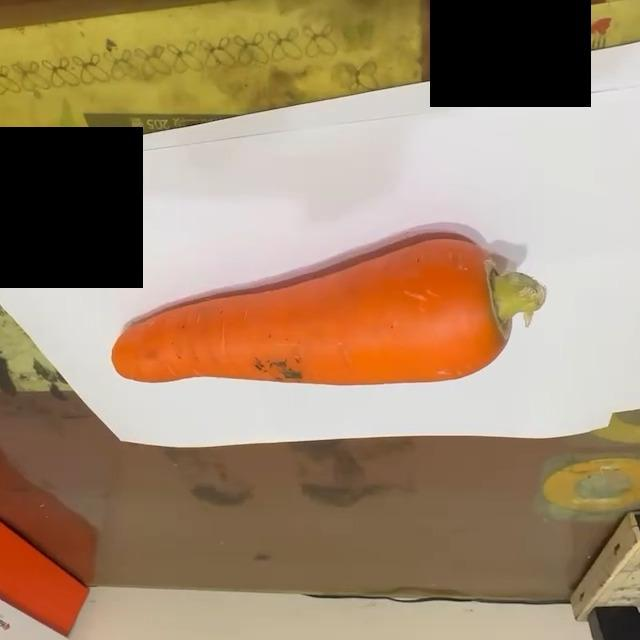carrot: (104, 237, 543, 389)
